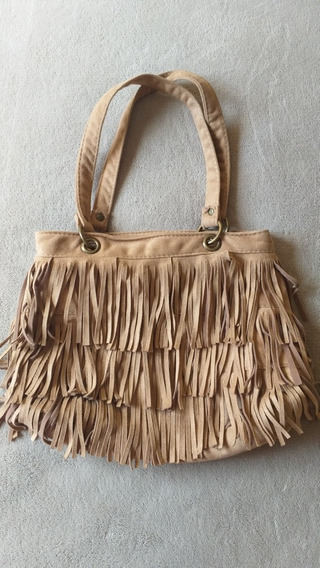cartera: (5, 70, 315, 468)
